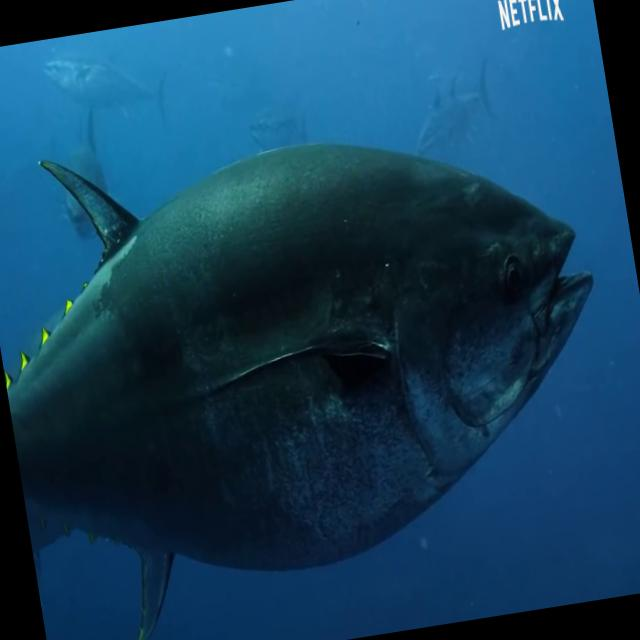fish: (0, 65, 640, 640), (31, 20, 182, 148), (396, 48, 506, 172)
